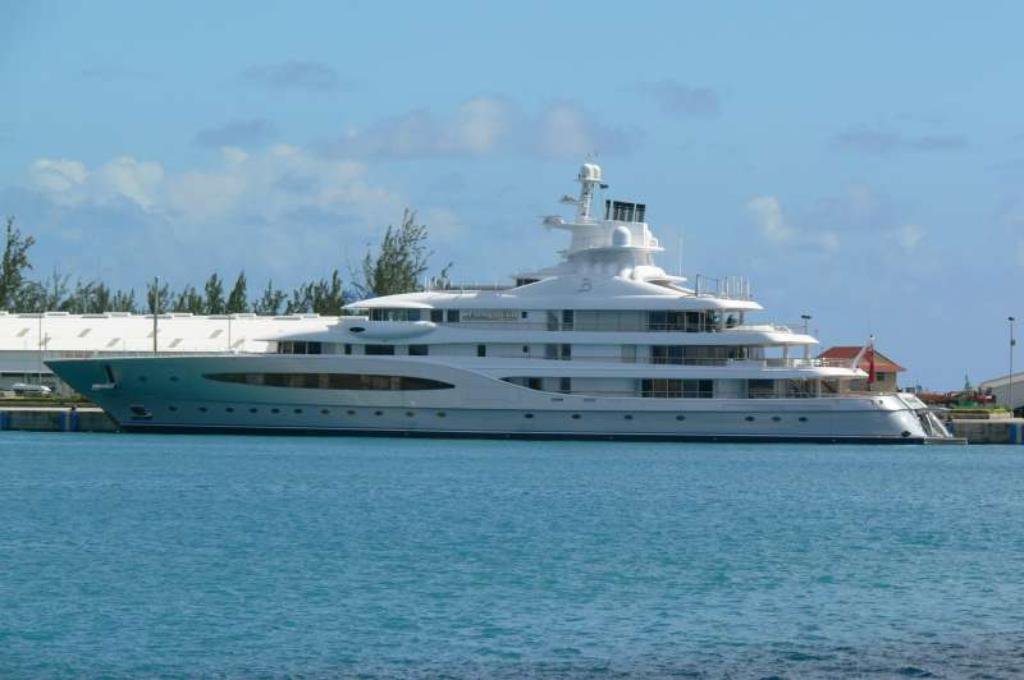PassengerShip: (41, 159, 955, 450)
